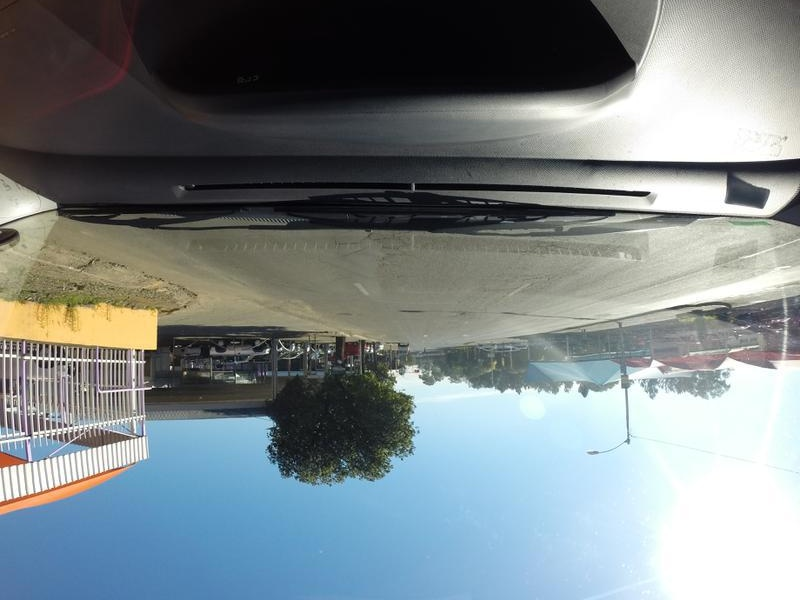pothole: (400, 308, 429, 316), (458, 308, 473, 316)
